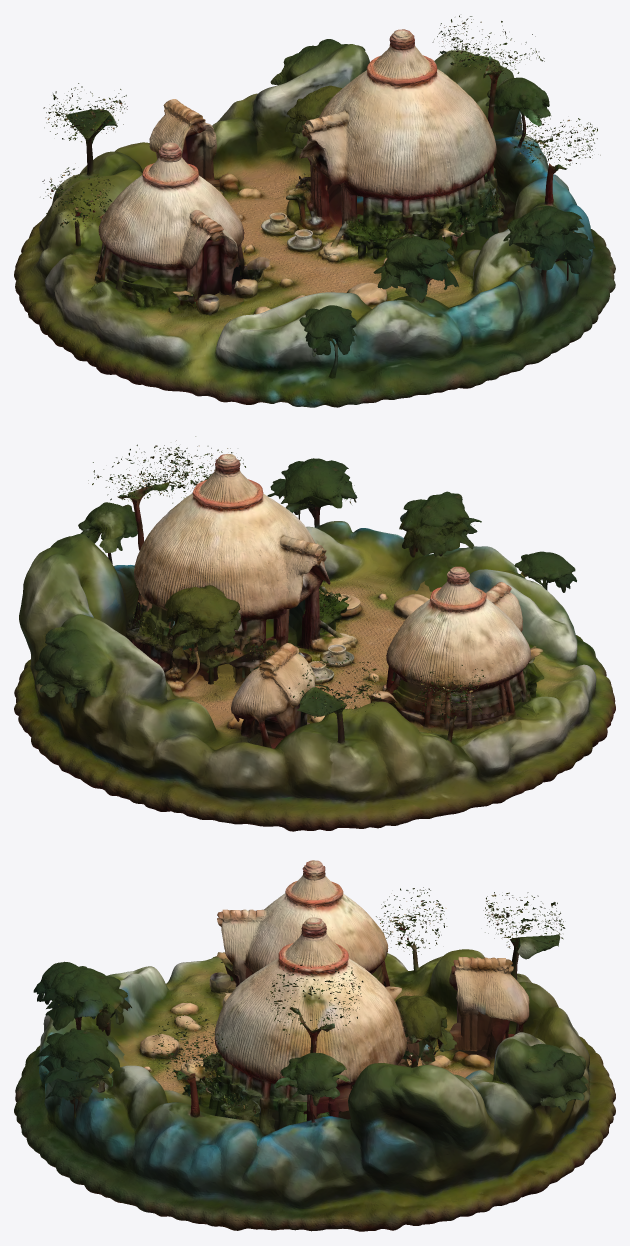
File: 3266e27f-85de-4be6-abd5-be598e55ed23_optimized.glb
3 renders of one model, top to bottom at view 1: azimuth 30°, elevation 25°; view 2: azimuth 150°, elevation 25°; view 3: azimuth 270°, elevation 25°, orthographic.
Size of the model in its own units: 1.64 by 0.6982 by 1.64.
1 material, 1 textured.
